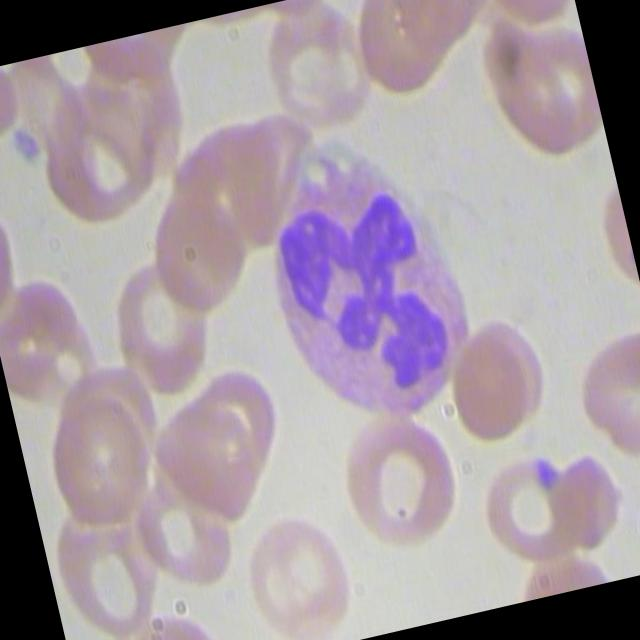RBC: (20, 68, 173, 236), (324, 401, 470, 562), (467, 1, 592, 172), (132, 162, 258, 326), (97, 248, 222, 410), (247, 0, 382, 147), (34, 382, 160, 537), (43, 484, 168, 640), (143, 384, 274, 530), (234, 501, 361, 640), (468, 438, 586, 571), (130, 475, 240, 597), (438, 319, 540, 447), (564, 321, 640, 475), (544, 445, 630, 555)
WBC: (232, 104, 496, 451)
